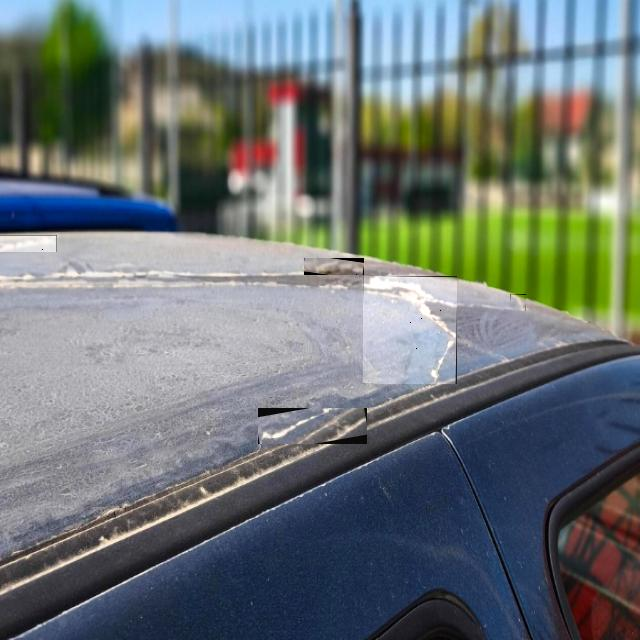Scratch: (363, 277, 454, 383), (363, 277, 454, 338), (260, 408, 347, 443), (0, 236, 56, 251), (304, 261, 362, 274), (434, 338, 448, 381), (510, 294, 525, 310)
